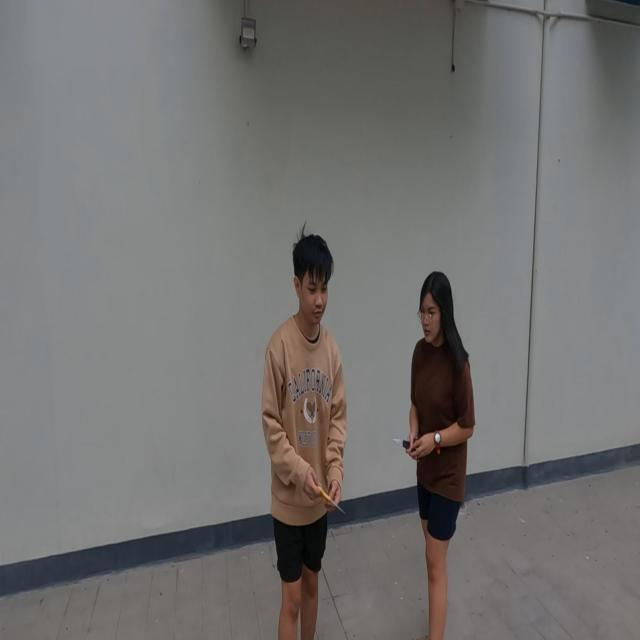scissor: (316, 476, 347, 516), (391, 436, 420, 460)
